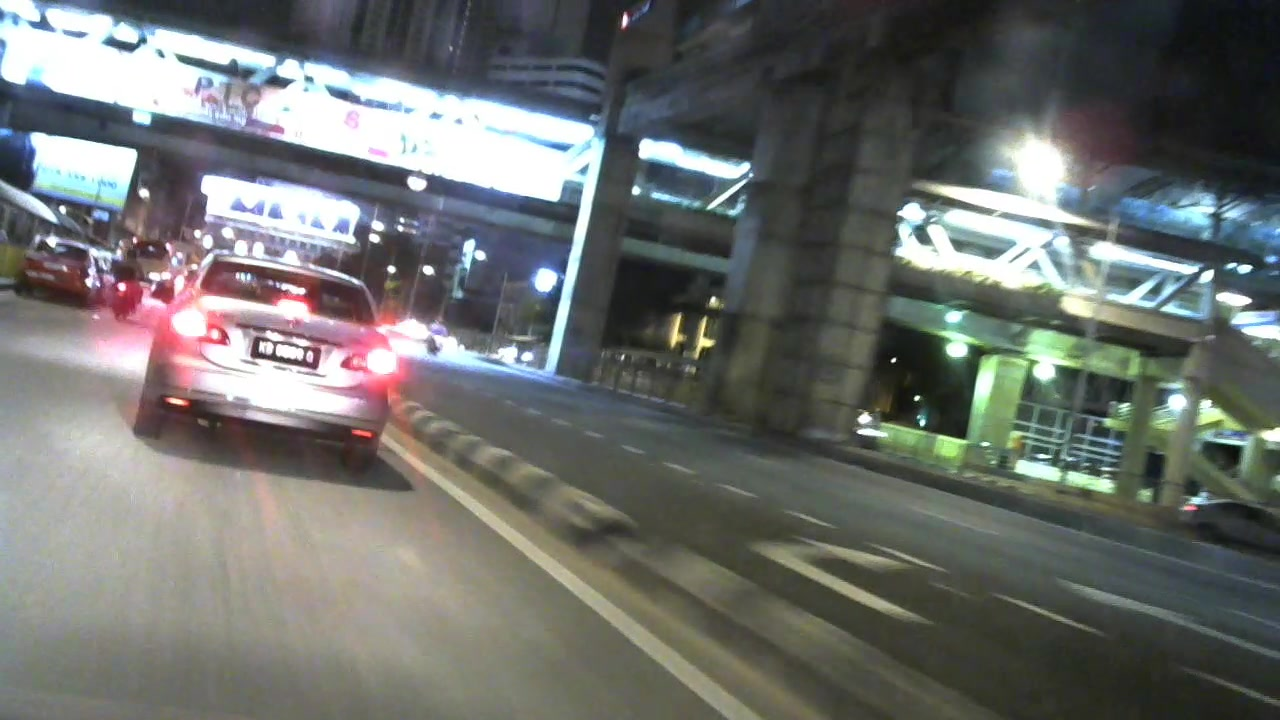Car: (145, 252, 394, 477), (16, 228, 101, 310)
